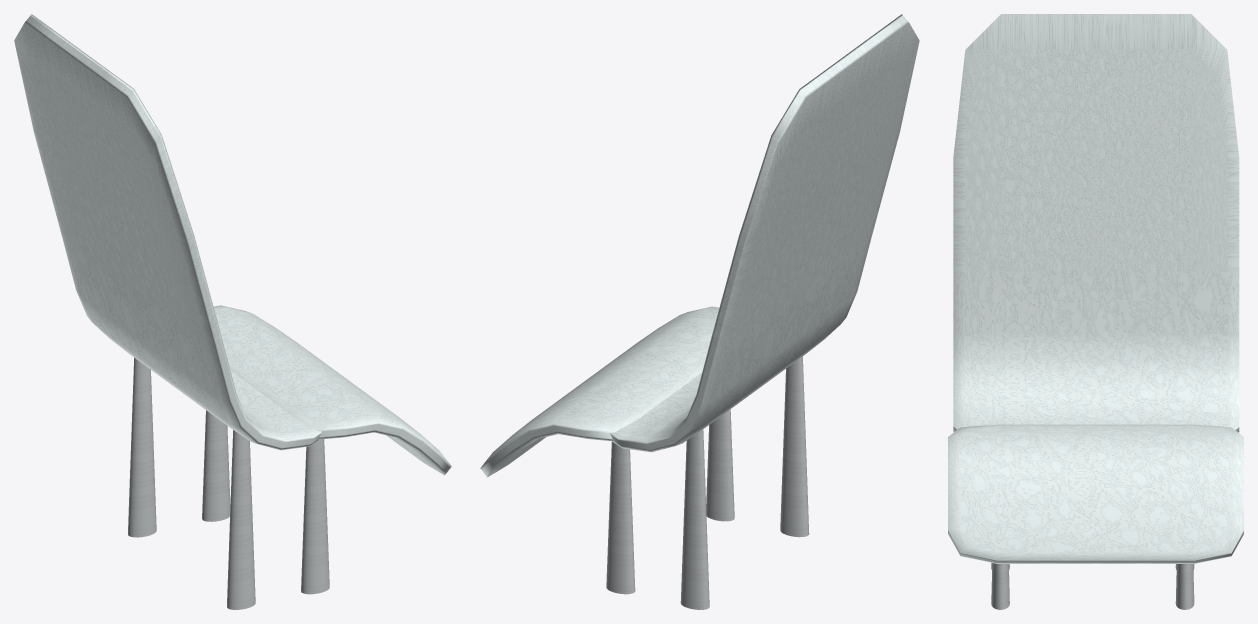
File: chair_new.fbx
3 views of the same model, side by side, from view 1: azimuth 30°, elevation 25°; view 2: azimuth 150°, elevation 25°; view 3: azimuth 270°, elevation 25° (orthographic). The views are drawn at different scales.
Visible parts, largest first — view 1: polySurface2, polySurface3, polySurface5, polySurface7, polySurface4, polySurface6; view 2: polySurface2, polySurface3, polySurface7, polySurface5, polySurface6, polySurface4; view 3: polySurface2, polySurface3, polySurface4, polySurface6.
Part boxes in pixels (x1=…): polySurface2: x1=14, y1=14, x2=321, y2=450; polySurface3: x1=213, y1=305, x2=451, y2=475; polySurface5: x1=227, y1=430, x2=255, y2=609; polySurface7: x1=128, y1=357, x2=156, y2=537; polySurface4: x1=301, y1=439, x2=329, y2=594; polySurface6: x1=202, y1=410, x2=230, y2=521; polySurface2: x1=610, y1=14, x2=919, y2=452; polySurface3: x1=480, y1=306, x2=719, y2=477; polySurface7: x1=680, y1=429, x2=709, y2=609; polySurface5: x1=780, y1=356, x2=809, y2=537; polySurface6: x1=606, y1=441, x2=635, y2=594; polySurface4: x1=706, y1=409, x2=734, y2=521; polySurface2: x1=953, y1=14, x2=1239, y2=432; polySurface3: x1=948, y1=424, x2=1243, y2=563; polySurface4: x1=991, y1=563, x2=1009, y2=609; polySurface6: x1=1175, y1=564, x2=1194, y2=609.
Size of the model in its own units: 1.24 by 2.1 by 1.11.
2 materials, 2 textured.
